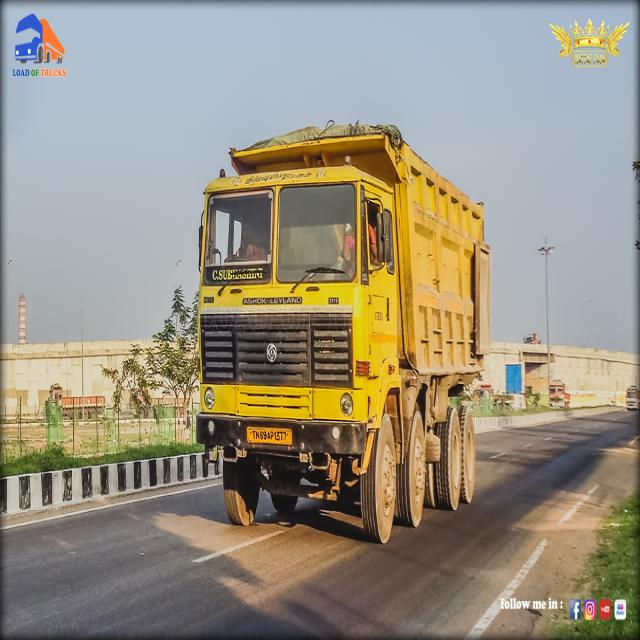Plate: (244, 423, 294, 446)
truck: (197, 109, 487, 532)
